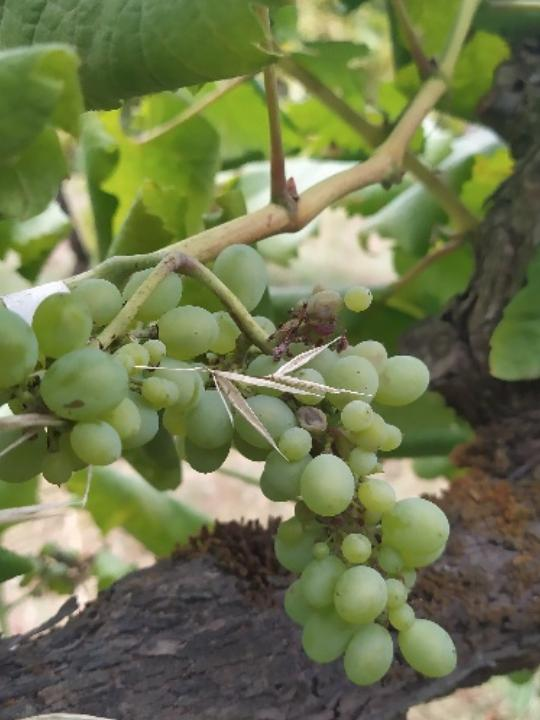grape: (0, 241, 474, 693)
